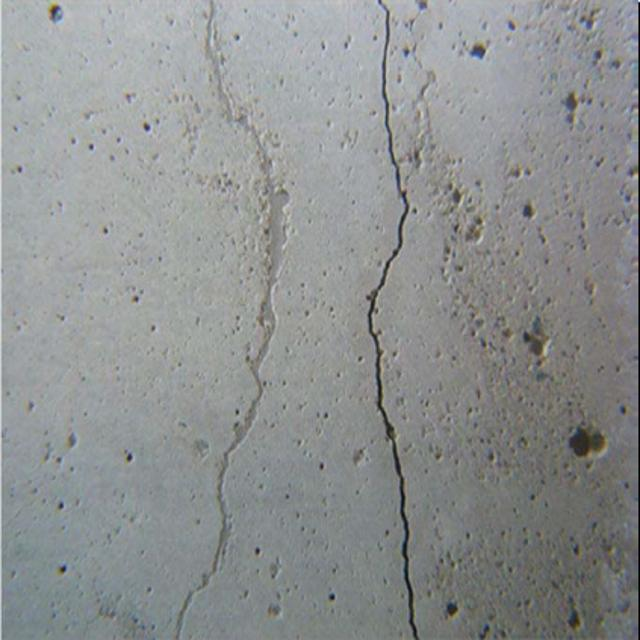crack: (152, 8, 272, 640), (357, 3, 450, 640)
